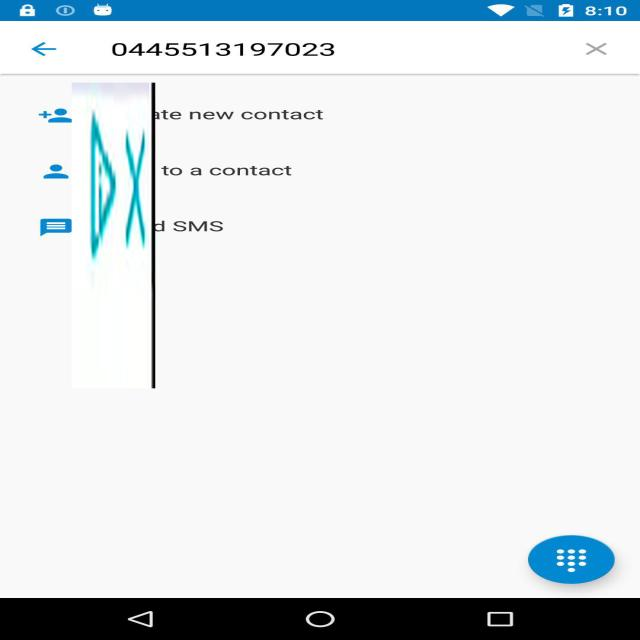sneaking: (72, 83, 155, 388)
